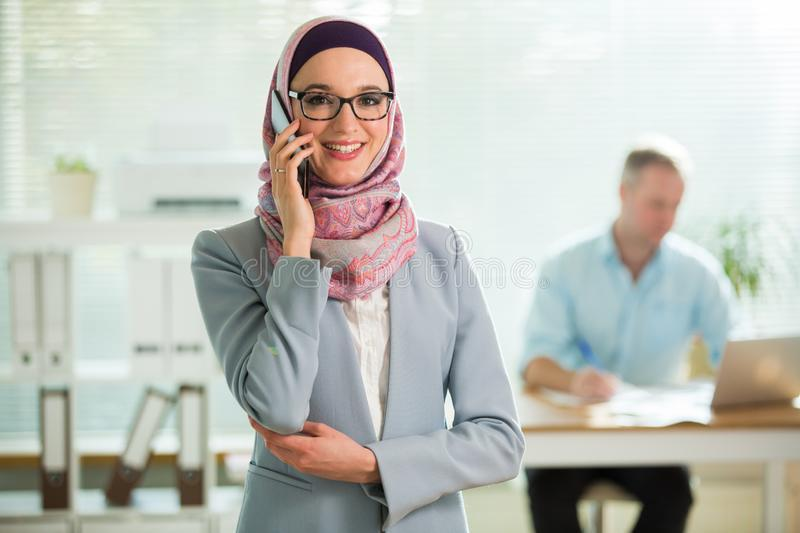No Mask: (280, 31, 419, 224), (627, 167, 700, 279)
